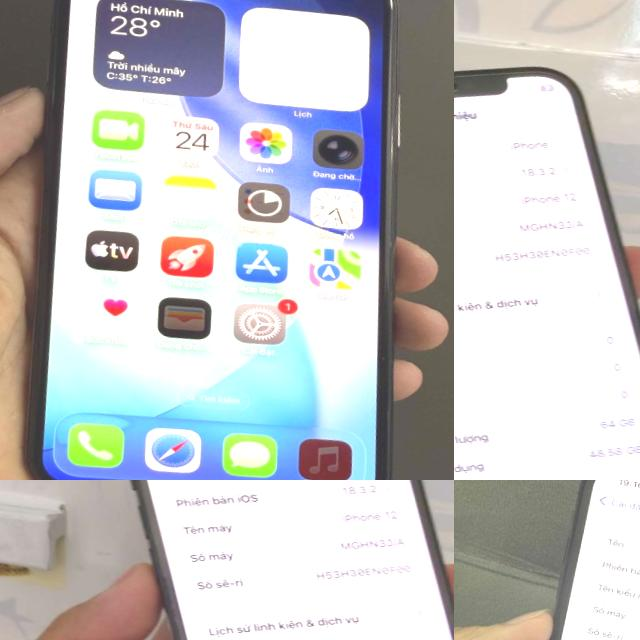gen_11: (0, 0, 454, 480)
gen_12_13: (454, 30, 640, 480), (63, 480, 454, 640)
gen_x_xs: (490, 480, 640, 640)
